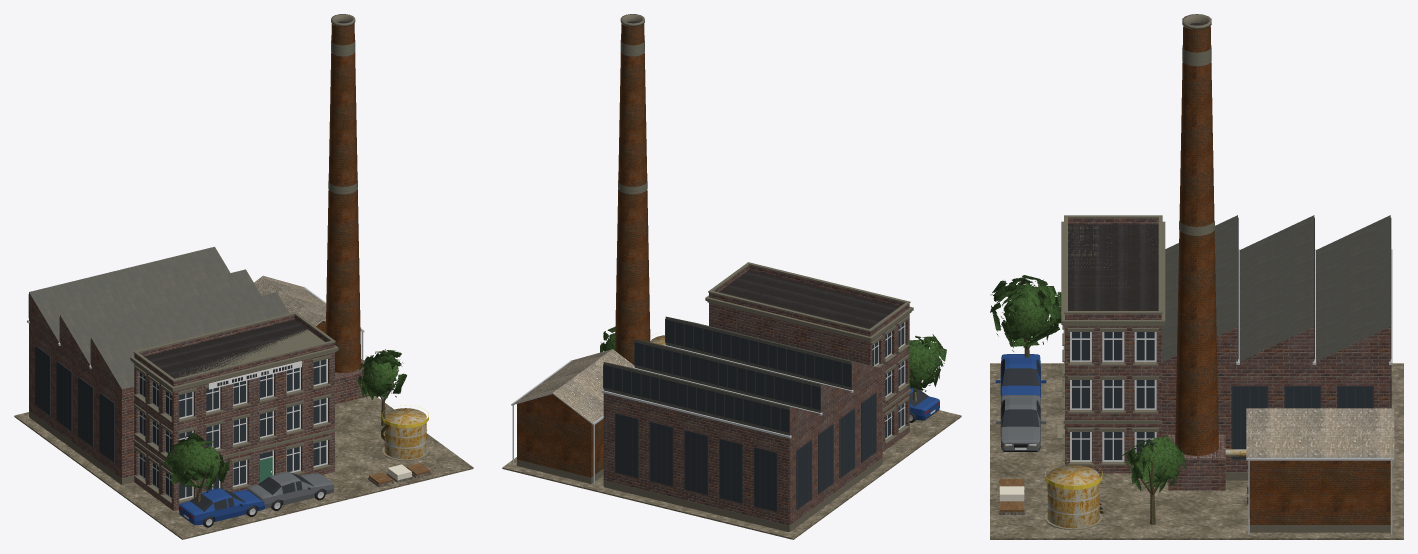
Rendered from factory_brick.glb.
3 renders of one model, left to right at view 1: azimuth 30°, elevation 25°; view 2: azimuth 150°, elevation 25°; view 3: azimuth 270°, elevation 25°, orthographic. The views are drawn at different scales.
Parts seen in each view (by area): view 1: factory_brick_body, factory_brick_foliage; view 2: factory_brick_body, factory_brick_foliage; view 3: factory_brick_body, factory_brick_foliage.
Boxes of the visible parts, x1,y1,x2,y2 form: factory_brick_body: [14, 14, 473, 539]; factory_brick_foliage: [163, 349, 406, 492]; factory_brick_body: [502, 14, 961, 539]; factory_brick_foliage: [600, 326, 946, 391]; factory_brick_body: [990, 14, 1403, 539]; factory_brick_foliage: [990, 275, 1186, 492].
Bounding box in the file's own units: 0.94 × 1.23 × 0.94.
33 materials, 17 textured.
